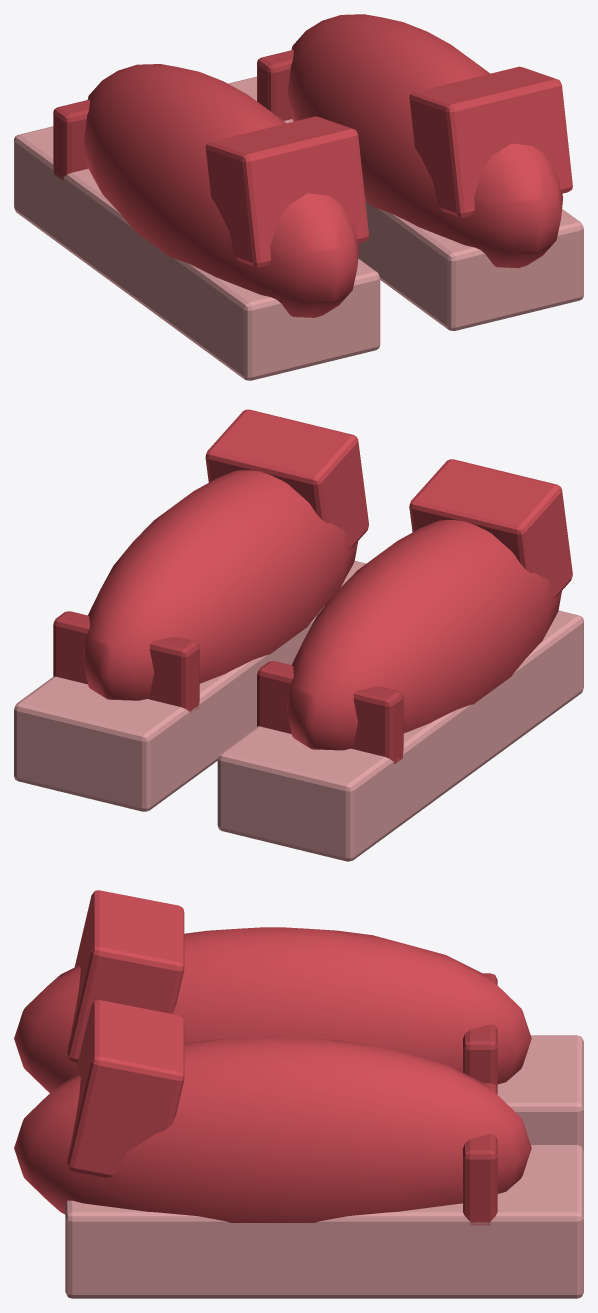
File: VM-CAL-EXT92.glb
3 views of the same model, one above another, from view 1: azimuth 30°, elevation 25°; view 2: azimuth 150°, elevation 25°; view 3: azimuth 270°, elevation 25° (orthographic). The views are drawn at different scales.
Visible parts, largest first — view 1: Zapatillas Deportivas Off White Rojo; view 2: Zapatillas Deportivas Off White Rojo; view 3: Zapatillas Deportivas Off White Rojo.
Part boxes in pixels (x1=…): Zapatillas Deportivas Off White Rojo: x1=14, y1=14, x2=583, y2=380; Zapatillas Deportivas Off White Rojo: x1=14, y1=409, x2=583, y2=861; Zapatillas Deportivas Off White Rojo: x1=14, y1=890, x2=583, y2=1298.
Size of the model in its own units: 0.2683 by 0.1568 by 0.3423.
